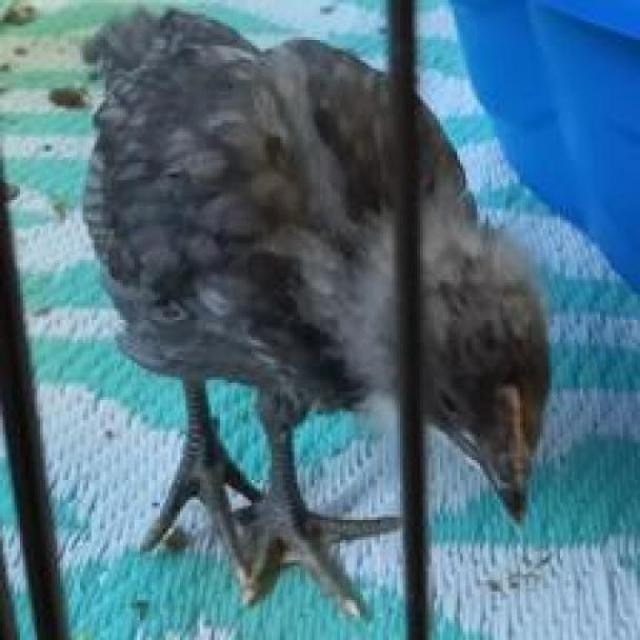Chicken: (82, 4, 611, 617)
